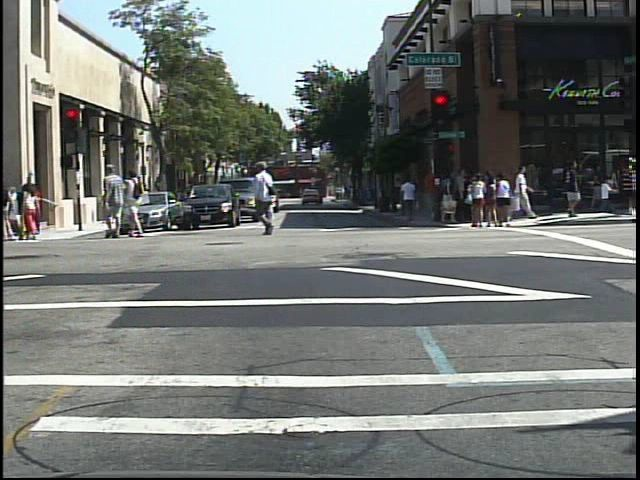person: (250, 159, 283, 239), (124, 167, 149, 239), (102, 162, 125, 238), (18, 180, 44, 242), (616, 153, 639, 217), (3, 173, 4, 245)
